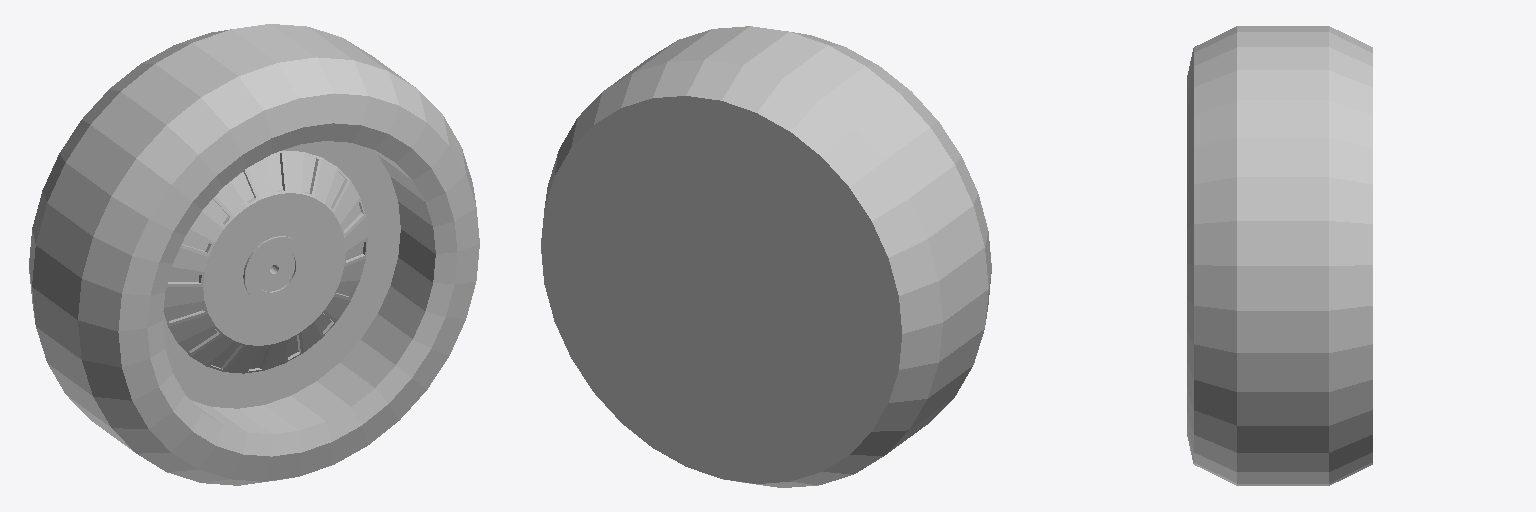
The model's file is WBL.obj.
The picture shows the model from 3 angles: view 1: azimuth 30°, elevation 25°; view 2: azimuth 150°, elevation 25°; view 3: azimuth 270°, elevation 25°; orthographic projection.
Visible parts, largest first — view 1: wheel; view 2: wheel; view 3: wheel.
Part boxes in pixels (x1,y1,x2,y2): wheel: (29, 24, 479, 485); wheel: (541, 26, 991, 487); wheel: (1187, 26, 1372, 485).
Bounding box in the file's own units: 1.81 × 1.81 × 0.7302.